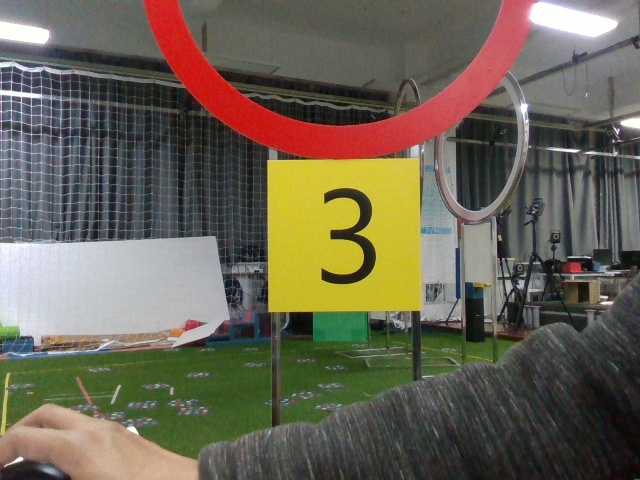target: (266, 152, 404, 307)
